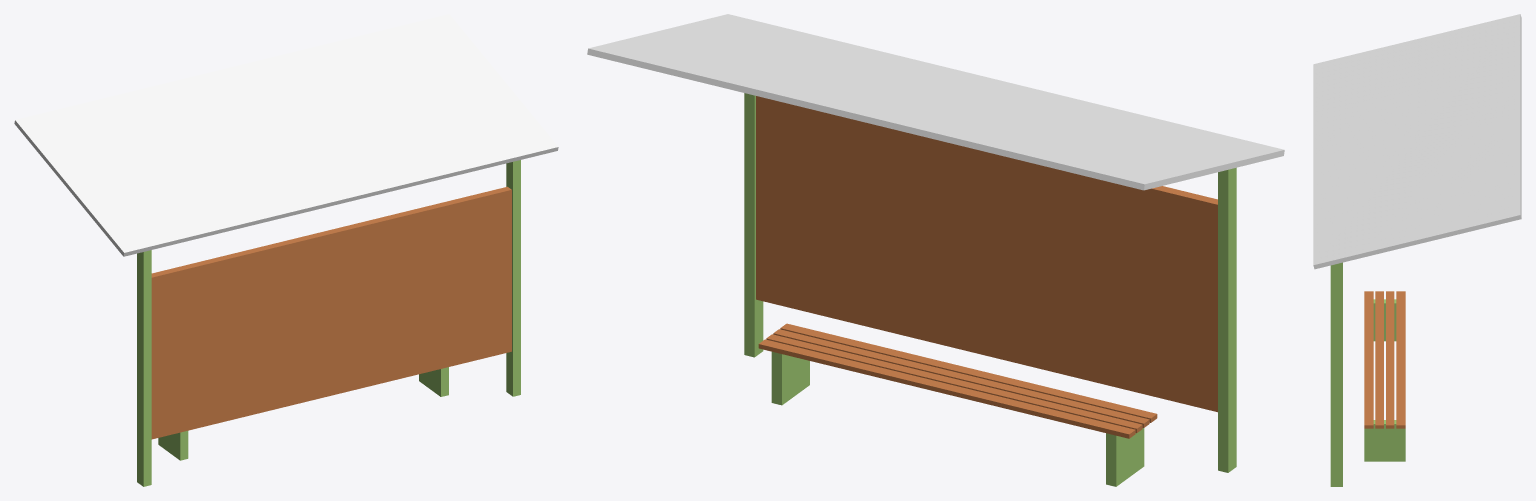
Rendered from bus stop_2.fbx.
The picture shows the model from 3 angles, left to right: view 1: azimuth 30°, elevation 25°; view 2: azimuth 150°, elevation 25°; view 3: azimuth 270°, elevation 25°; orthographic projection. The views are drawn at different scales.
Parts seen in each view (by area): view 1: bus_stop_2; view 2: bus_stop_2; view 3: bus_stop_2.
Boxes of the visible parts, x1,y1,x2,y2 form: bus_stop_2: [14, 14, 558, 486]; bus_stop_2: [587, 14, 1284, 486]; bus_stop_2: [1313, 14, 1521, 486].
Bounding box in the file's own units: 433 × 286 × 190.
1 material, 1 textured.
